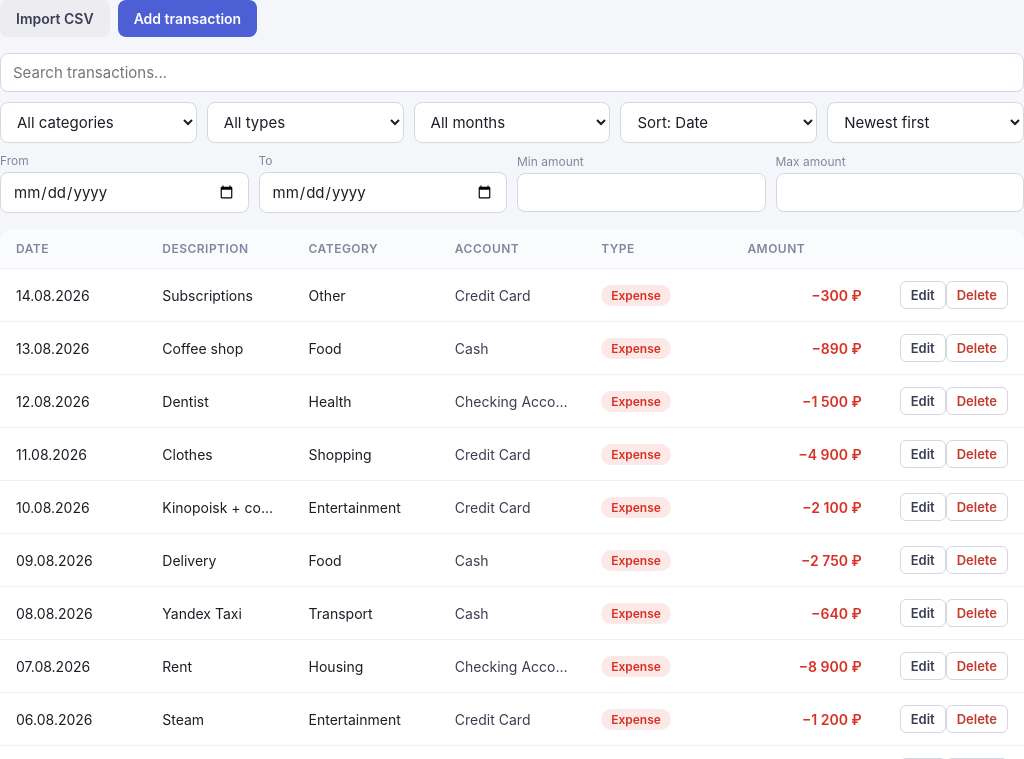
transactions page › edits an existing transaction
The width and height of the screenshot is (1024, 759).
Click the button "Edit" in the row of "14.08.2026". click: (923, 295)
box: [900,281,946,309]
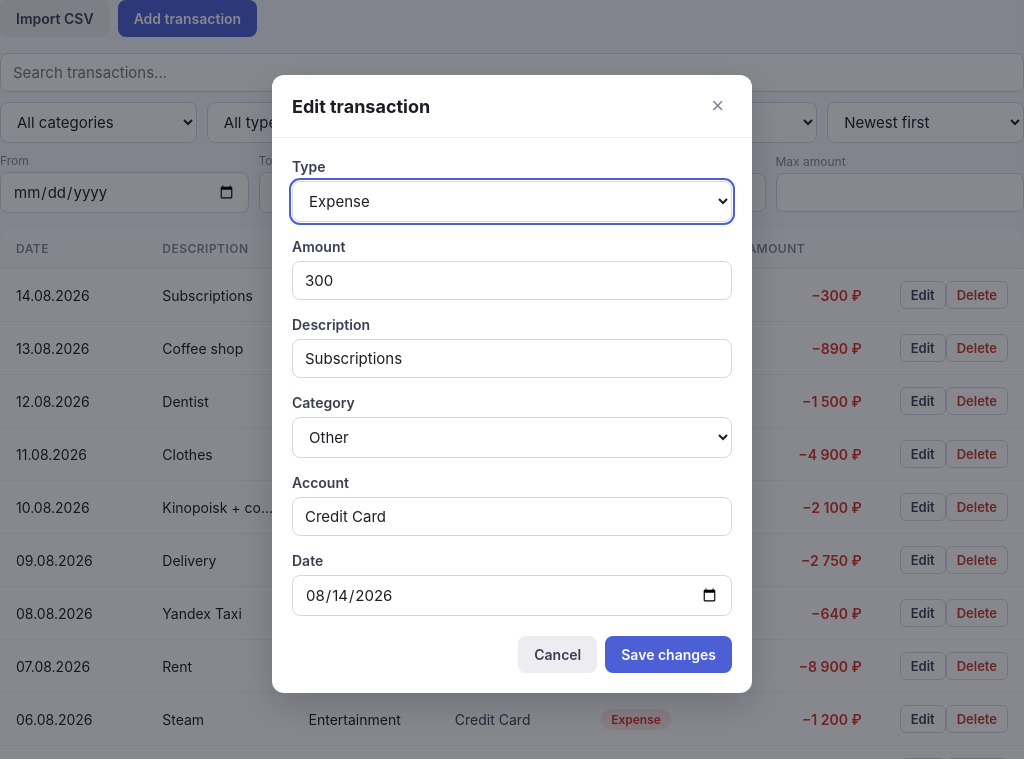
Replace the text in the field labelled "Description" with "Salary updated". click: (512, 358)
box: [292,339,732,378]
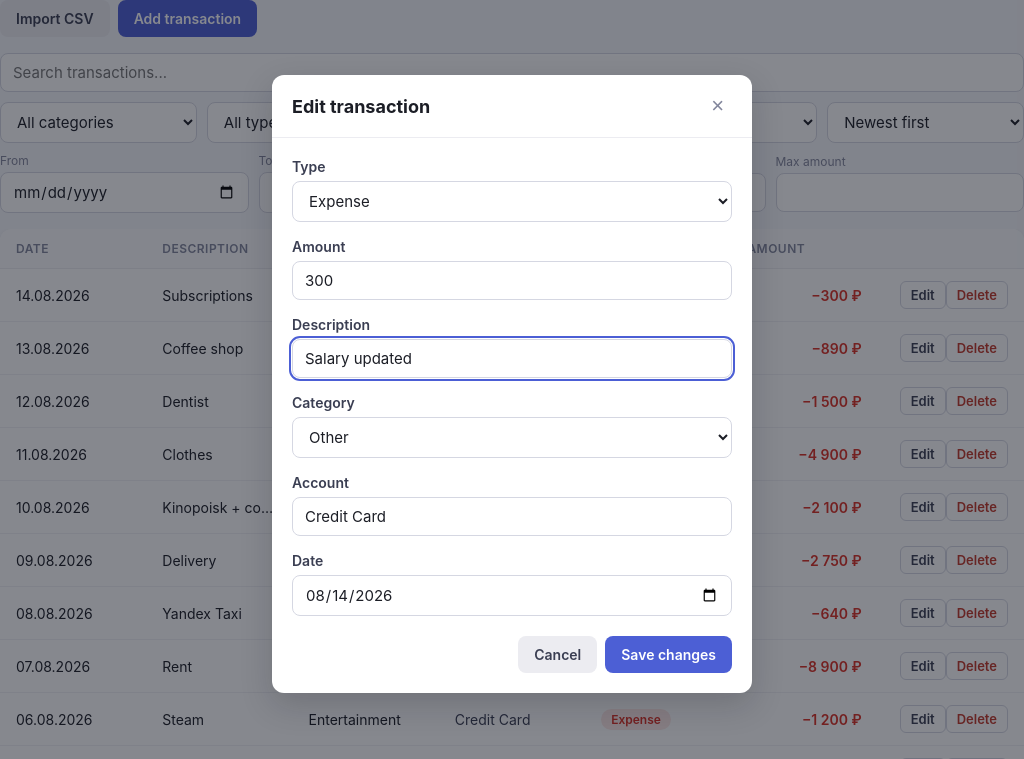
Click the button "Save changes". click: (669, 654)
box: [605,636,732,673]
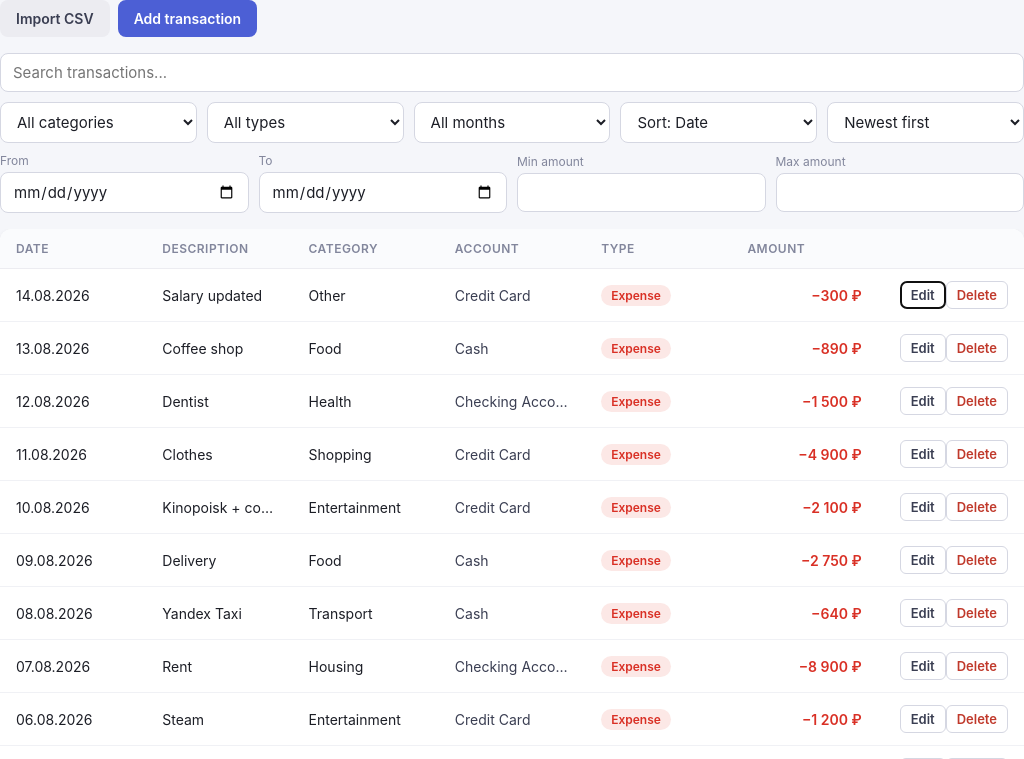
Check: the dialog is gone
